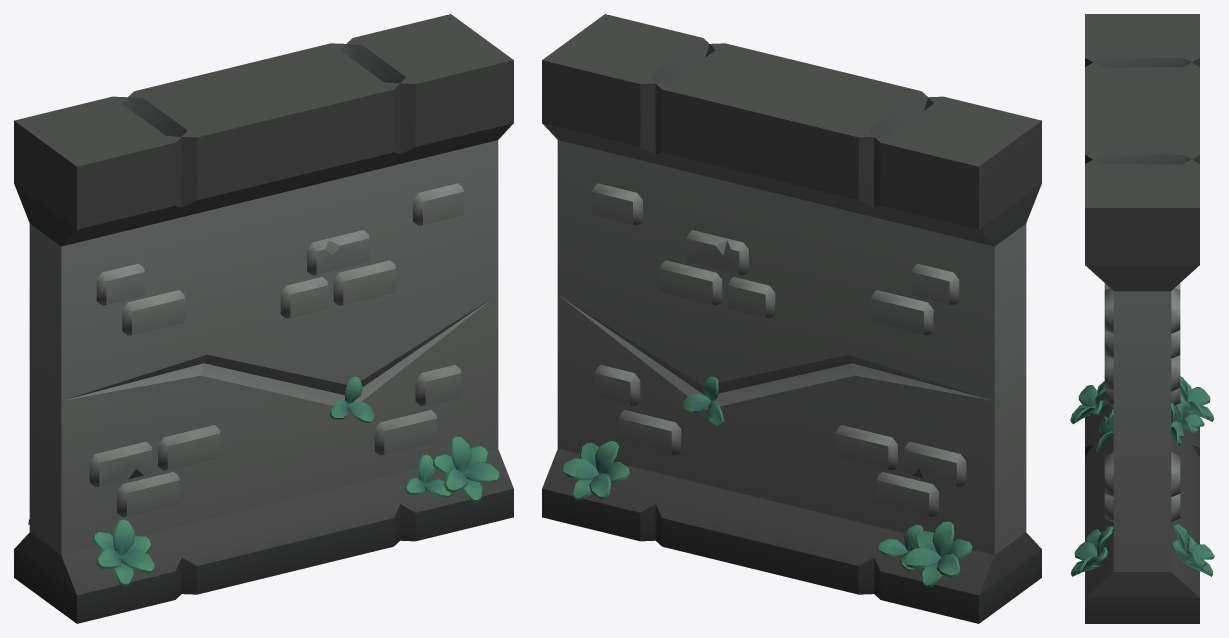
The model's file is wall-cracked.glb.
3 renders of one model, left to right at view 1: azimuth 30°, elevation 25°; view 2: azimuth 150°, elevation 25°; view 3: azimuth 270°, elevation 25°, orthographic. The views are drawn at different scales.
Visible parts, largest first — view 1: wall-cracked; view 2: wall-cracked; view 3: wall-cracked.
Part boxes in pixels (bbox=[...]): wall-cracked: bbox=[14, 14, 513, 623]; wall-cracked: bbox=[542, 14, 1041, 623]; wall-cracked: bbox=[1070, 14, 1214, 623].
Bounding box in the file's own units: 3 × 3 × 0.9446.
